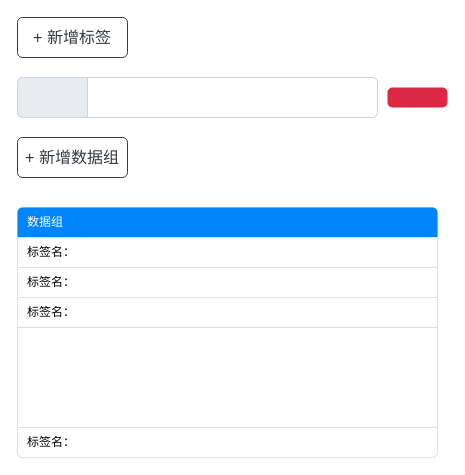
Image size: 465x475. Some labels were removed from this diagram. The shapes that lost their labels are listed below. From the top down, each one's centre as x and y in pixels, then its label:
At point 52,97: "标签名".
At point 417,97: "删除".
